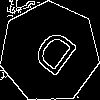D: (25, 27, 80, 85)
